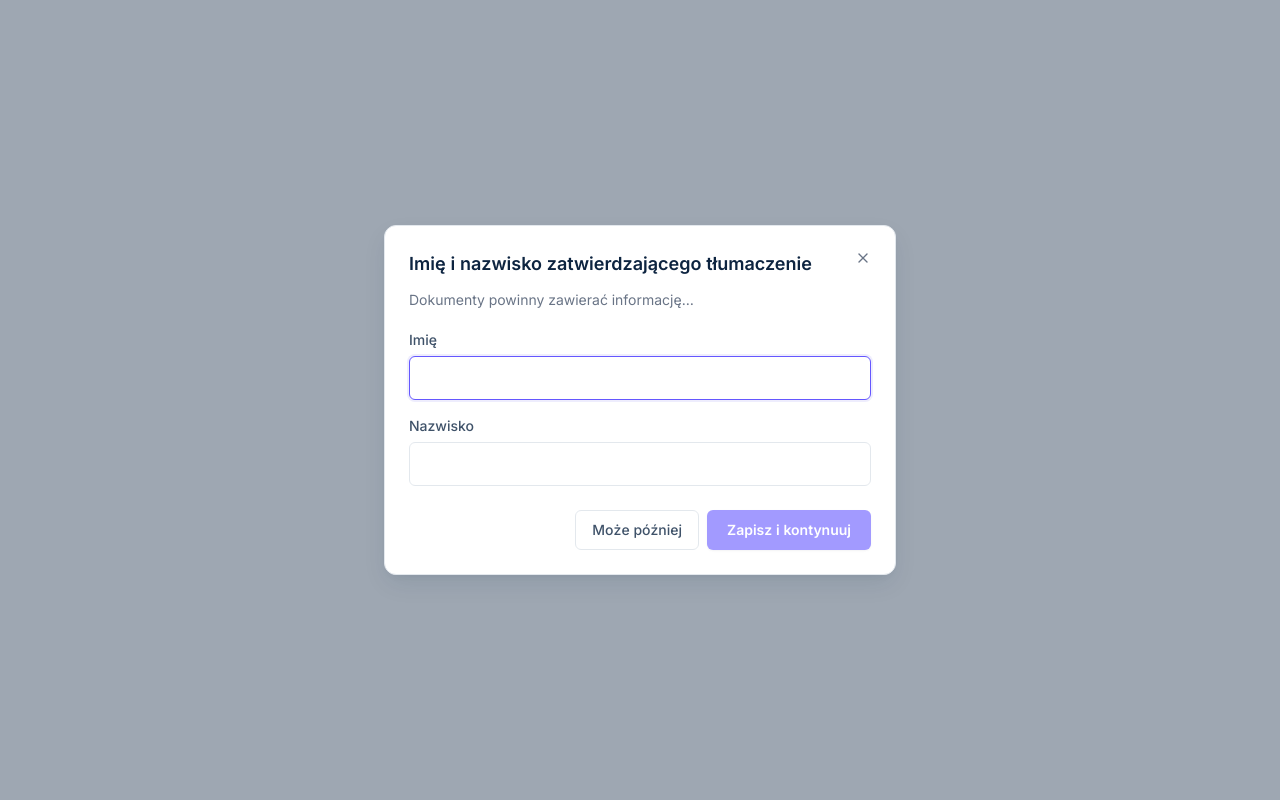
Scenario: <NameCaptureModal> › surfaces the error label when updateProfile fails
In the field labelled "Imię": (640, 378) [409, 356, 871, 400], type "Jan"
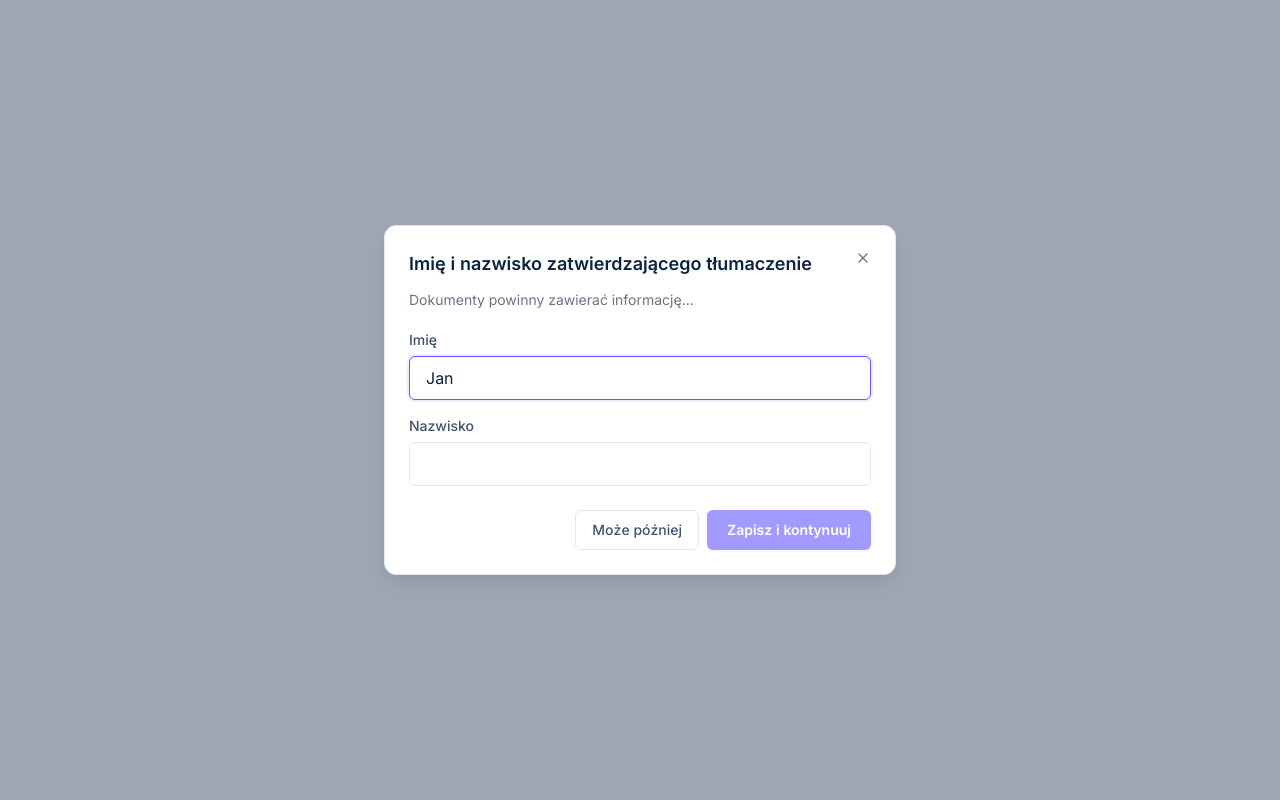
In the field labelled "Nazwisko": (640, 464) [409, 442, 871, 486], type "Kowalski"
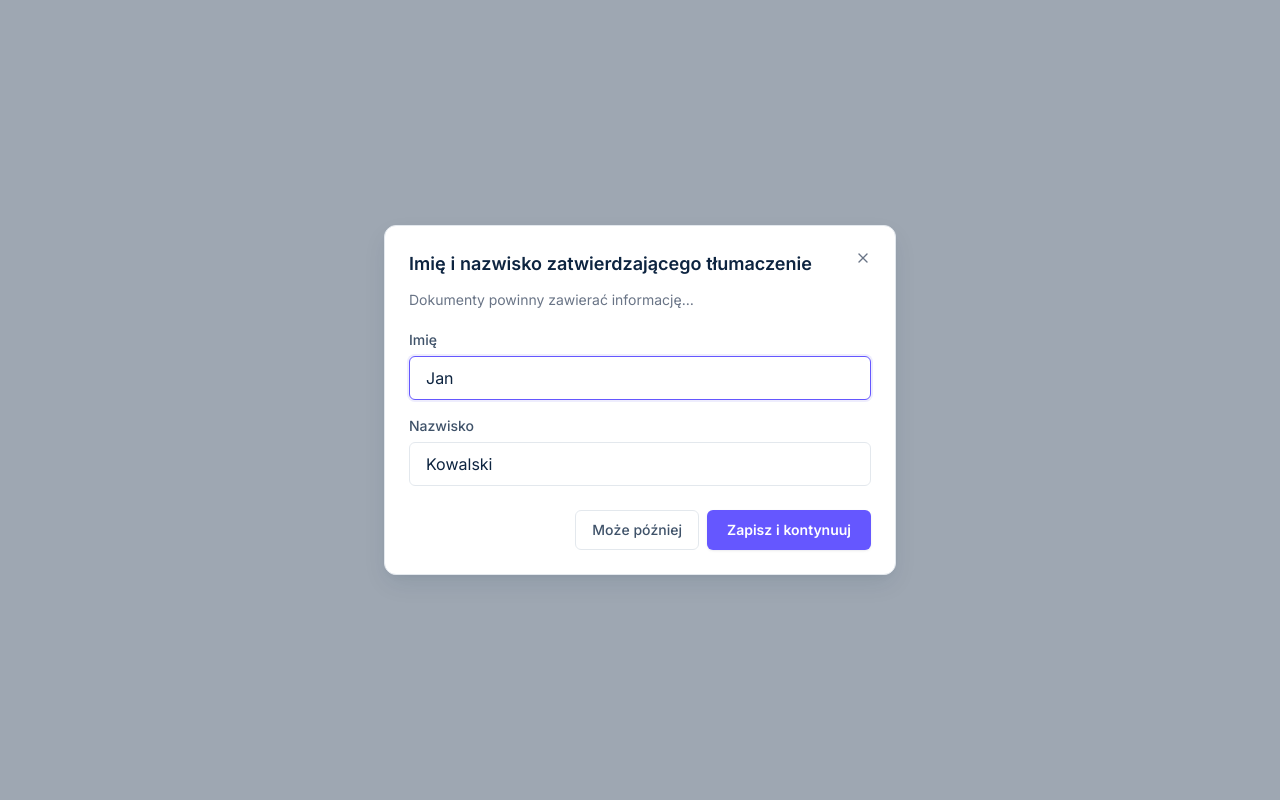
Click the button "Zapisz i kontynuuj": (789, 530) [707, 510, 871, 550]
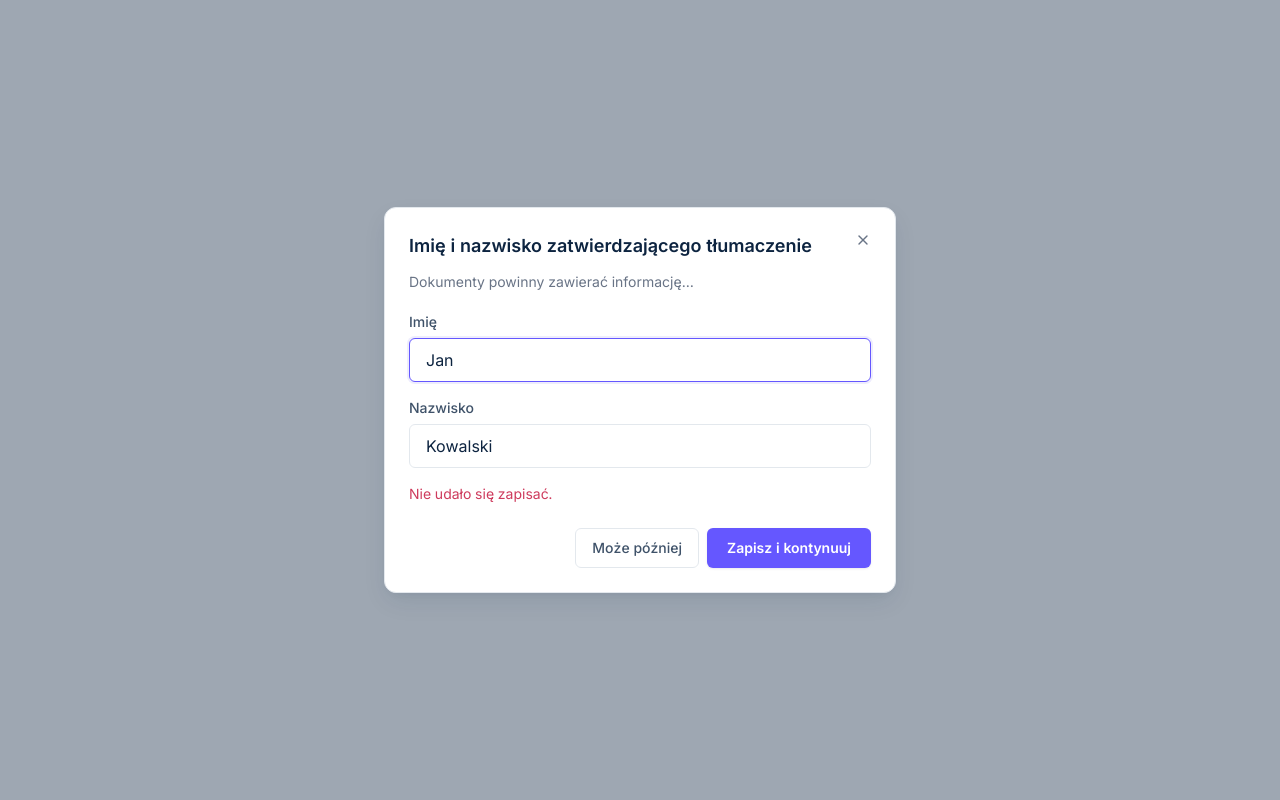
expect the text "Nie udało się zapisać." is shown: met, box [409, 485, 552, 502]
